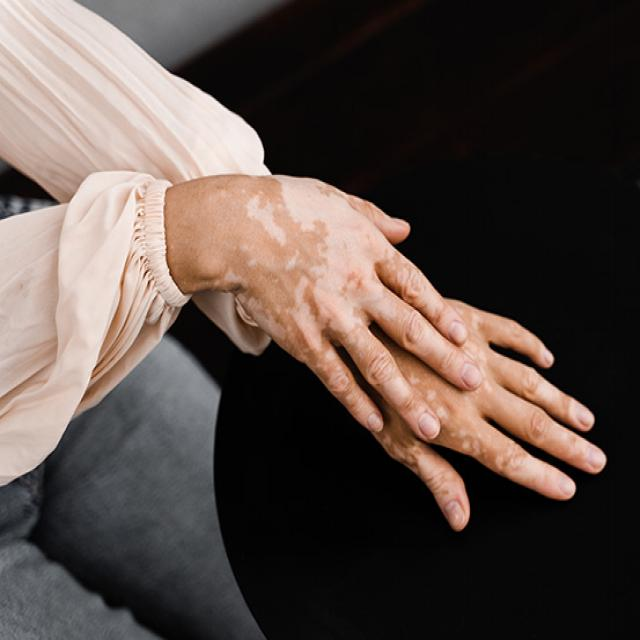vitiligo: (202, 180, 575, 518)
